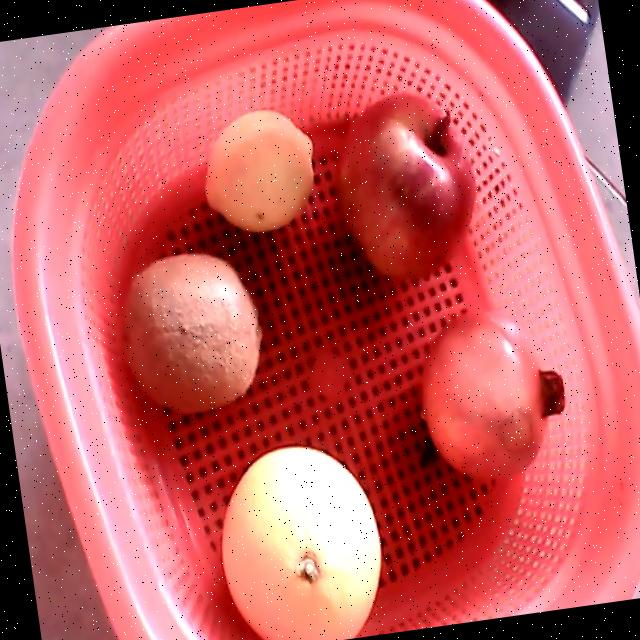apple: (337, 94, 477, 285)
kiwi: (120, 254, 263, 413)
lemon: (205, 110, 315, 235)
orange: (221, 446, 383, 640)
pomegranate: (420, 309, 567, 486)
